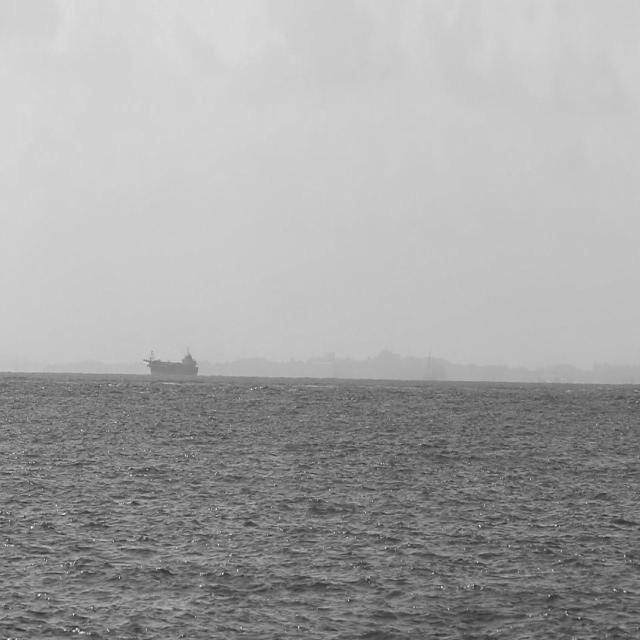ship: (142, 346, 200, 382)
